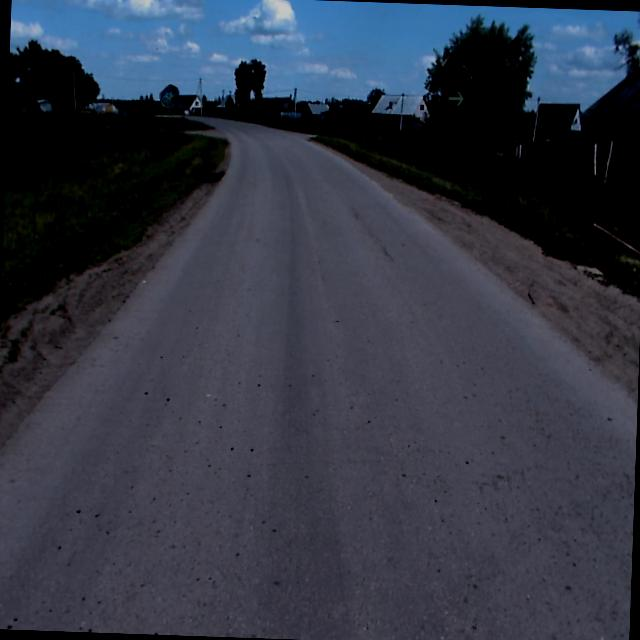road: (0, 117, 637, 640)
